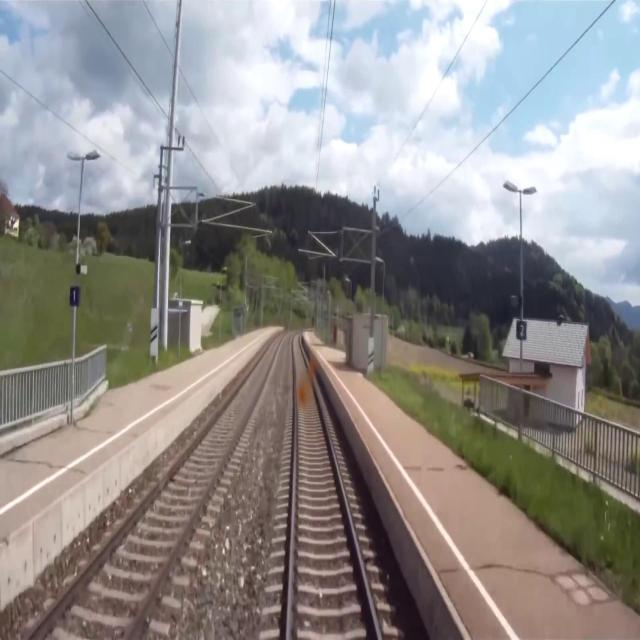rail-track: (32, 334, 282, 639), (290, 334, 376, 639)
